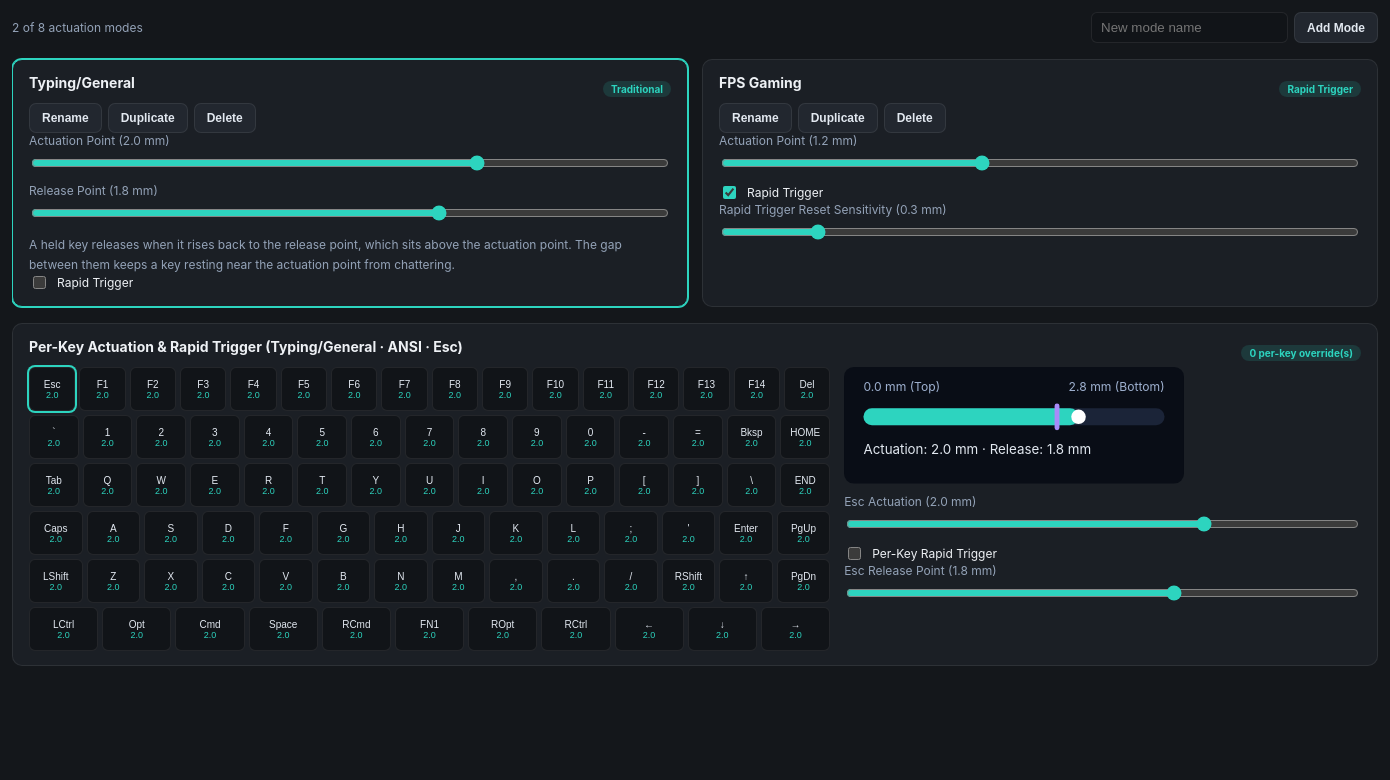
Test: managing actuation modes in the panel › adds and renames modes
The image size is (1390, 780).
In the field labelled "New mode name": (1190, 28) [1091,12,1288,43], type "Writing"
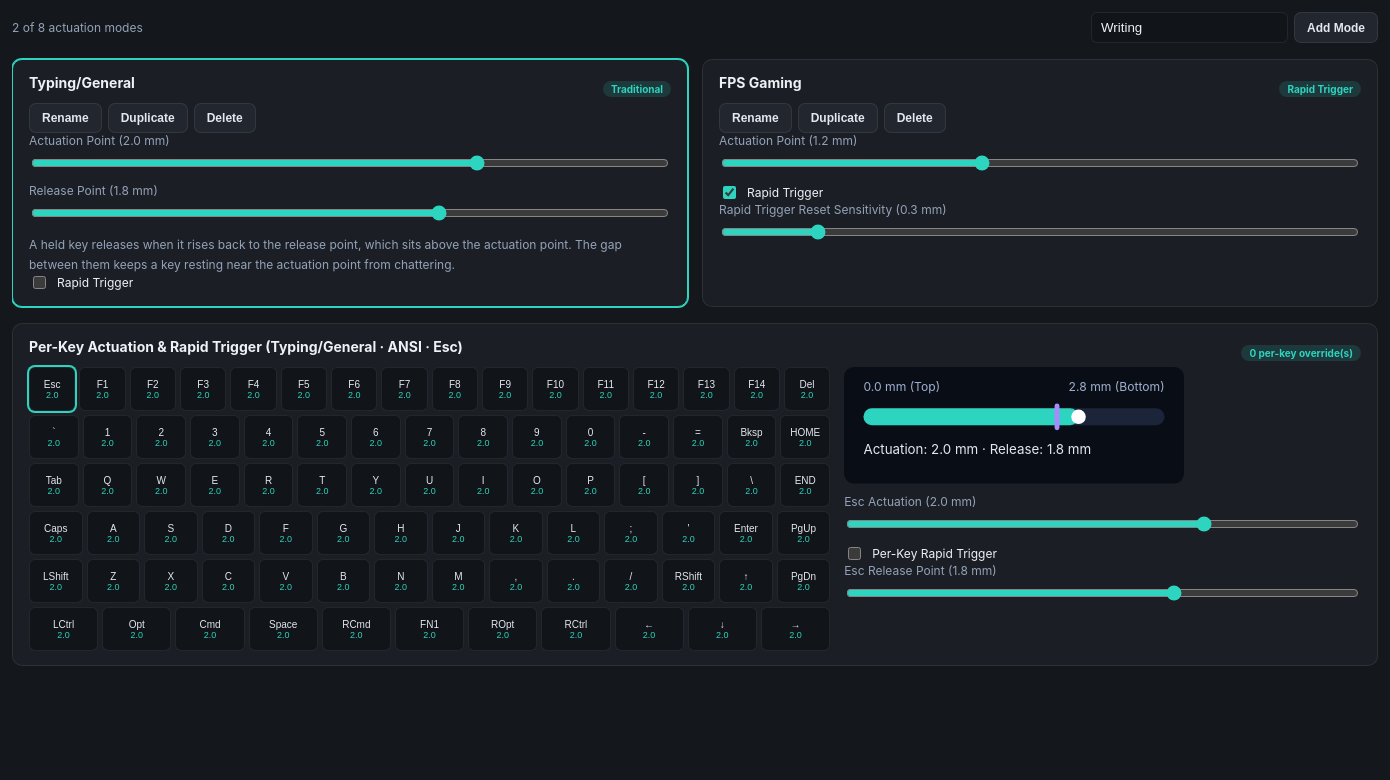
Click the button "Add Mode": (1336, 28) [1294,12,1378,43]
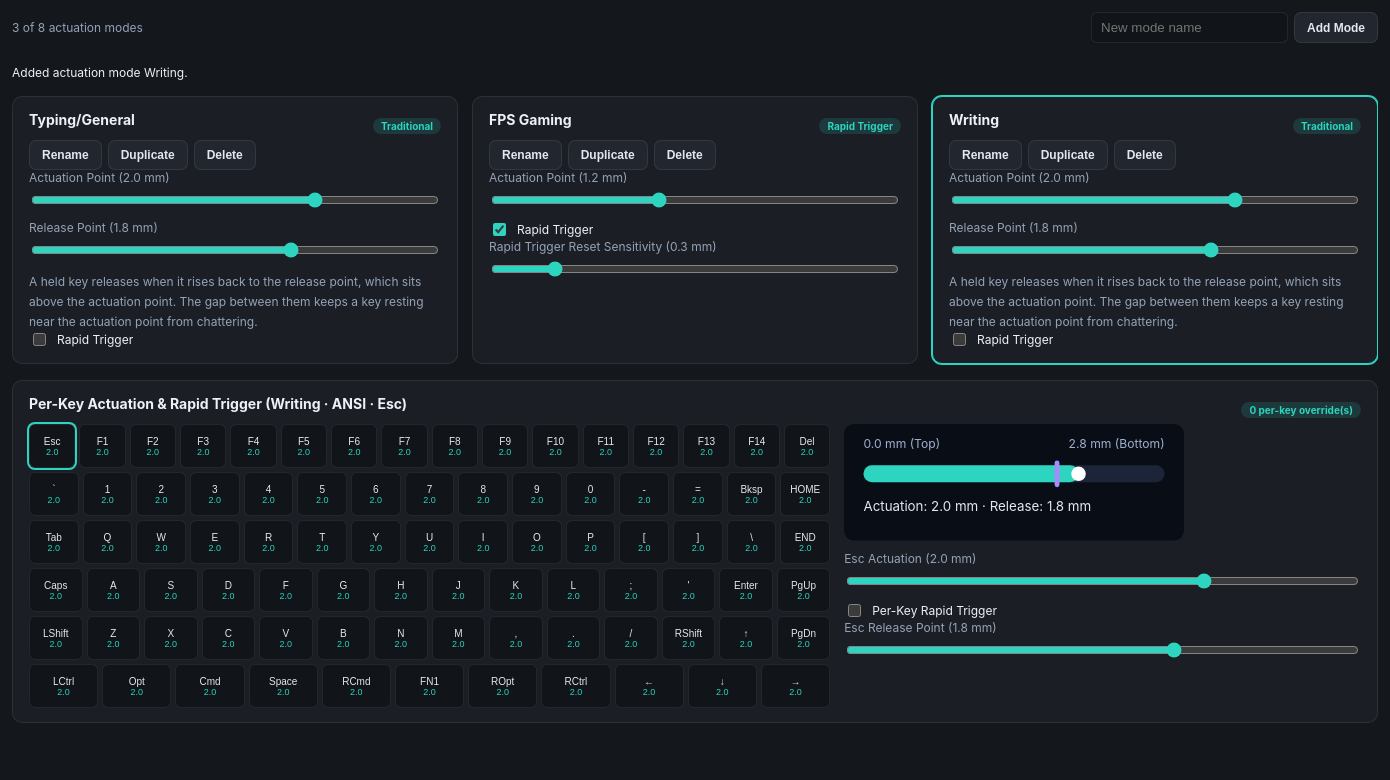
Result: the heading "Writing" is shown at [949,111,999,128]
Result: the text "3 of 8 actuation modes" is shown at [12,20,143,35]
Click the 3rd button "Rename": (985, 155) [949,140,1022,170]
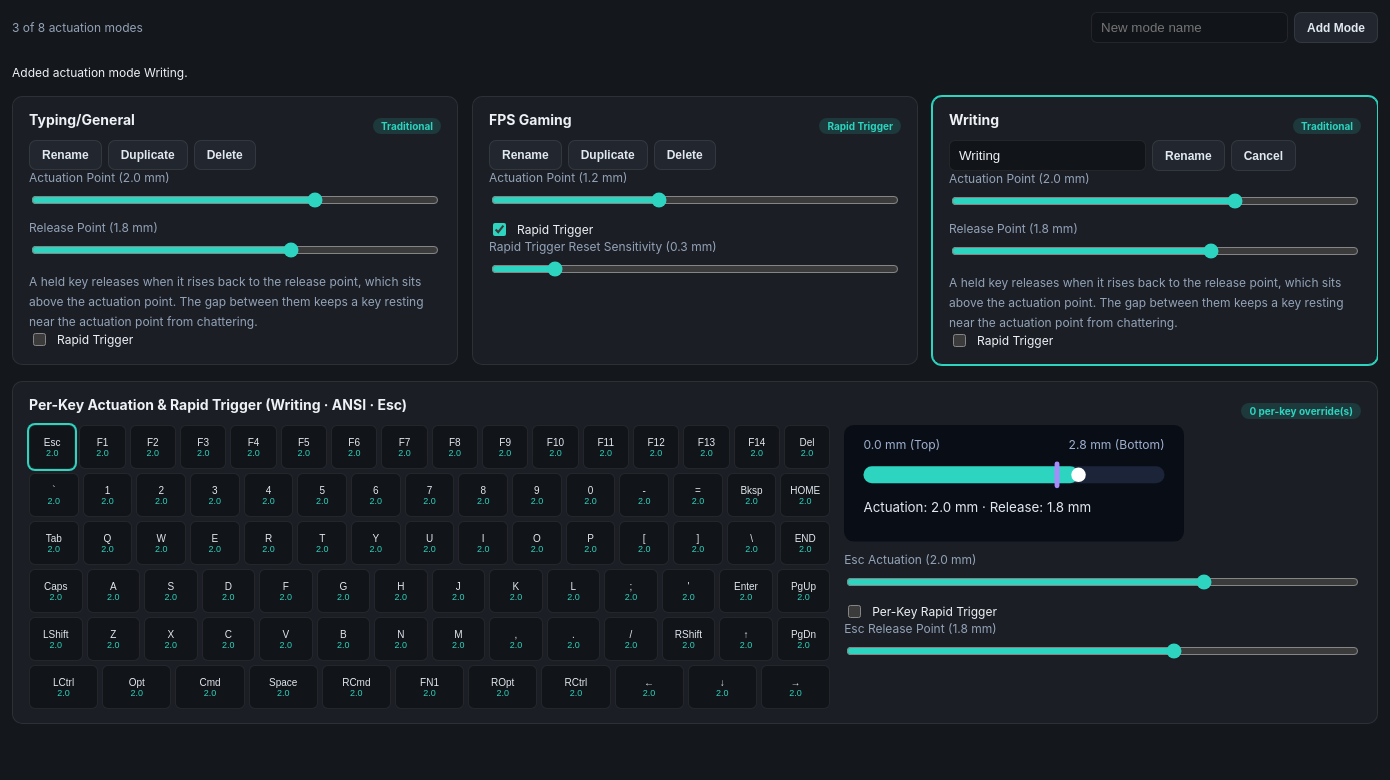
Replace the text in the field named "Rename Writing" with "Prose": (1048, 156) [949,140,1146,171]
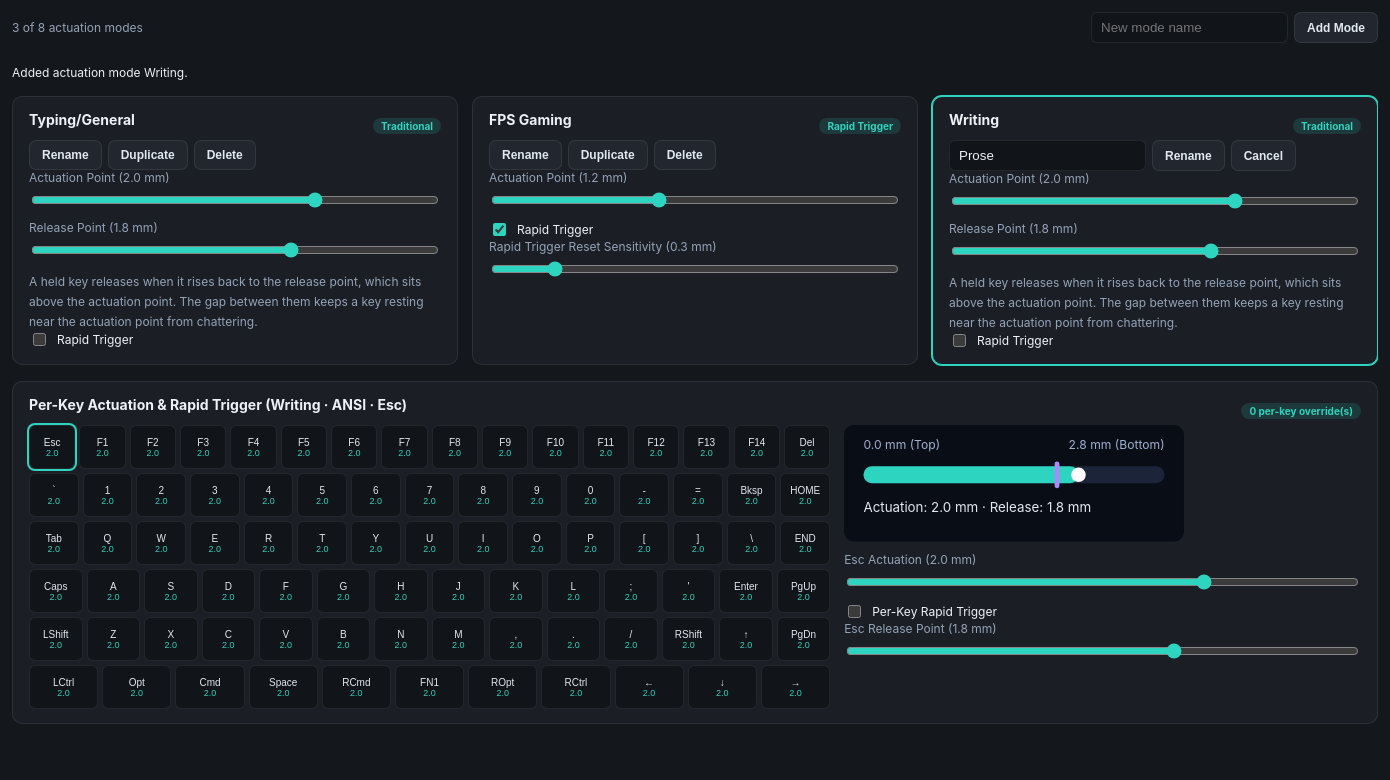
Click the 3rd button "Rename": (1188, 156) [1152,140,1225,171]
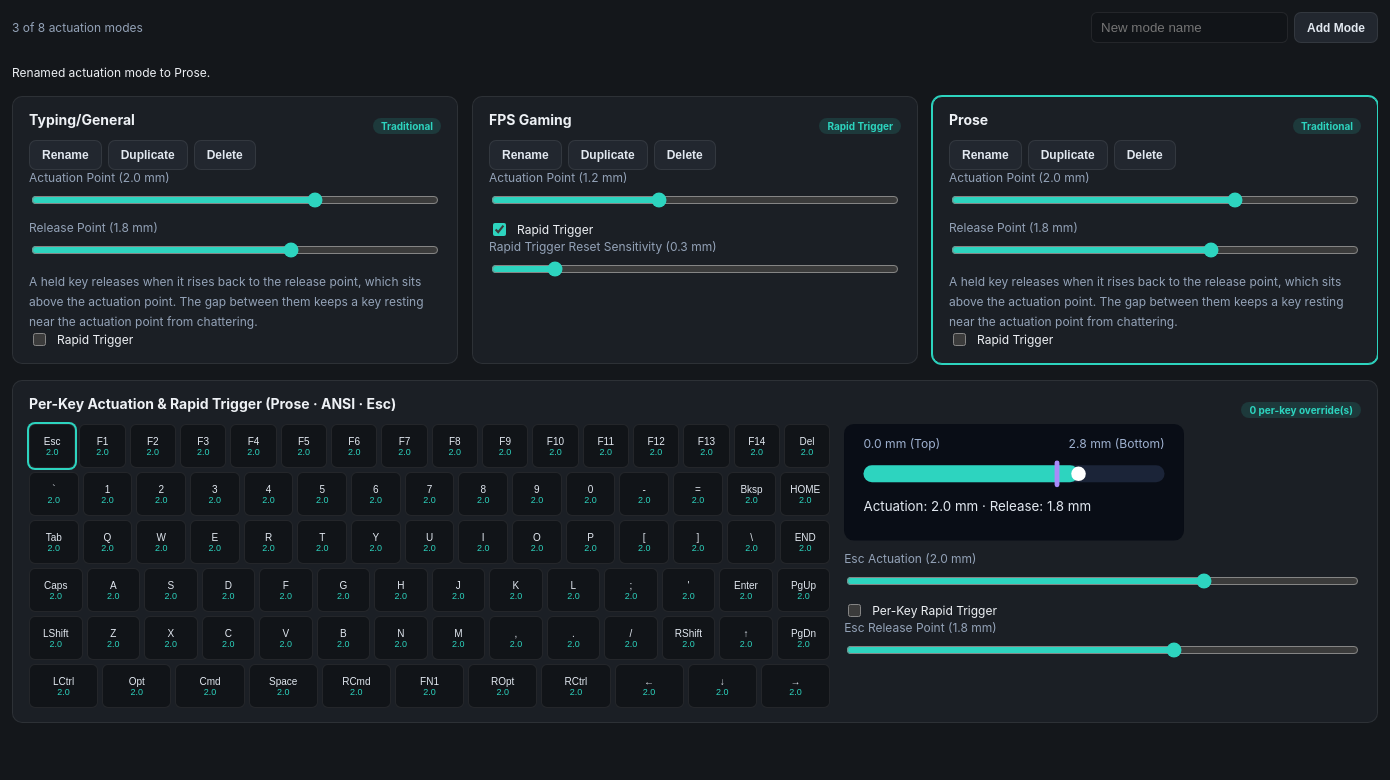
Result: the heading "Prose" is shown at [949,111,988,128]
